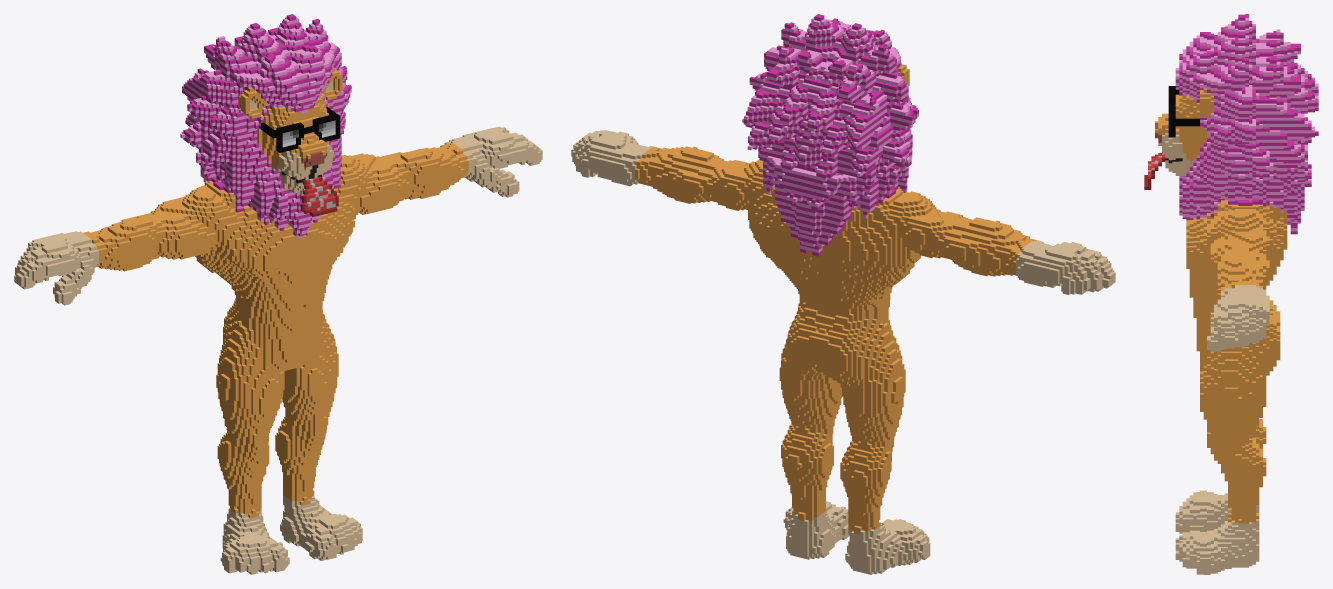
File: 202-DJi4PK34.glb
3 views of the same model, side by side, from view 1: azimuth 30°, elevation 25°; view 2: azimuth 150°, elevation 25°; view 3: azimuth 270°, elevation 25° (orthographic). The views are drawn at different scales.
Parts seen in each view (by area): view 1: meat; view 2: meat; view 3: meat.
Boxes of the visible parts, <box> form: meat: <box>14,14,542,574</box>; meat: <box>571,14,1115,574</box>; meat: <box>1144,14,1318,574</box>.
Size of the model in its own units: 17.2 by 16.5 by 5.
Materials: 4 (4 with a texture image).
